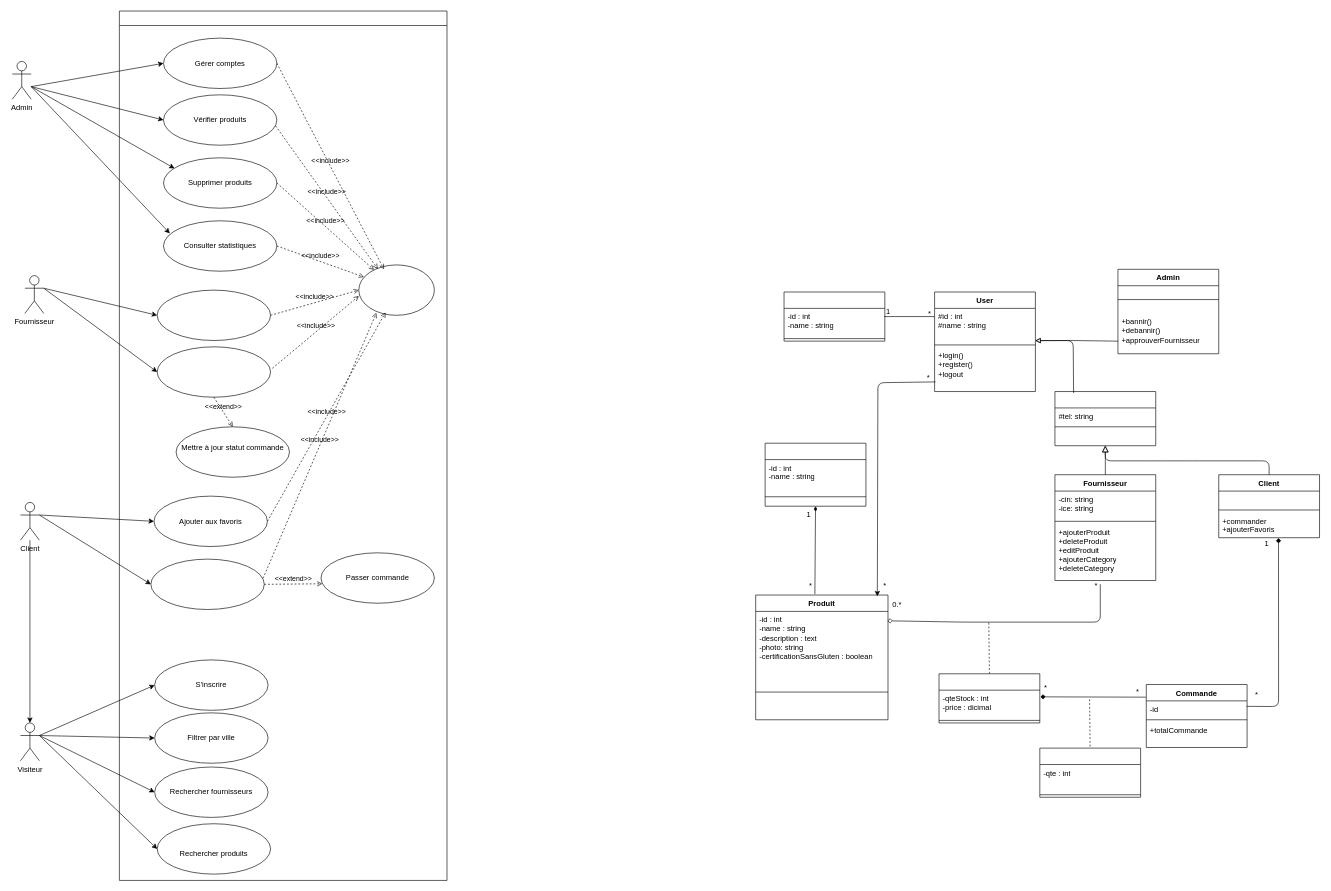
This 1331x891 diagram has some shape labels left out. The shapes that lost their labels are listed below. From the top down, each one's box as (x1, y1, x2, y2) in pixels, then its label:
(358, 264, 434, 315): Authentification
(157, 289, 271, 341): Gérer produits
(783, 291, 885, 341): City
(157, 346, 271, 397): Gérer commandes
(1054, 391, 1156, 446): Profetionnel
(119, 10, 447, 880): GluFree
(765, 443, 866, 506): Category
(150, 558, 264, 610): Ajouter au panier
(938, 673, 1040, 723): fournisseurProduit
(1039, 747, 1141, 797): ProduitCommander
